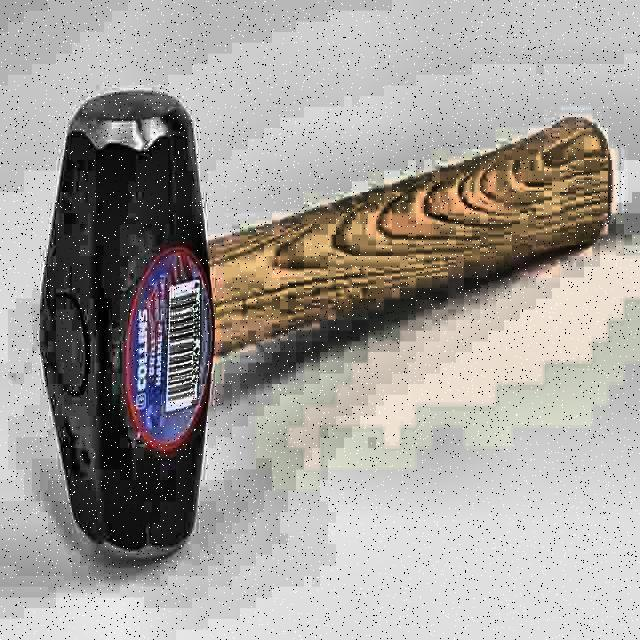hammer: (39, 88, 615, 566)
